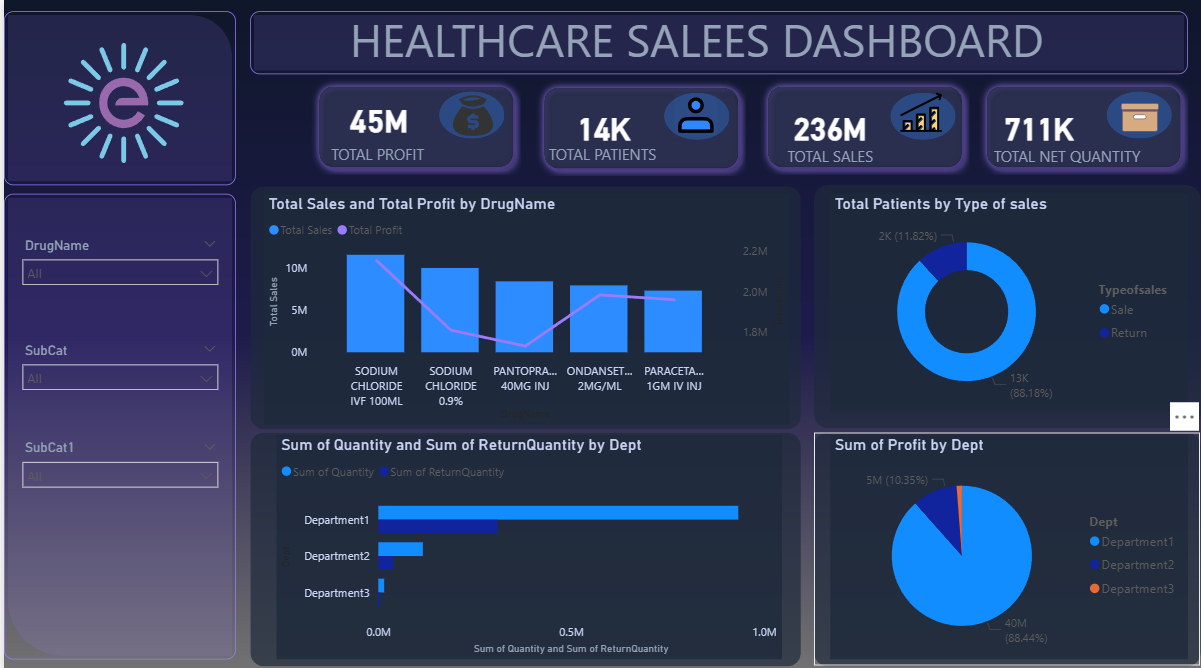

This screenshot's page, from the dashboard's own definition file:
{"tool":"powerbi","page":{"name":"Page 2","canvas":[1280,720],"ordinal":0},"visuals":[{"type":"shape","box":[263,12.1,1000.1,67.6],"z":0},{"type":"shape","box":[328.2,84.5,223.2,102.5],"z":1000},{"type":"card","fields":{"Values":["Raw Data.Total Profit"]},"box":[336.6,88.1,127.9,77.2],"z":2000},{"type":"textbox","box":[343.8,148.4,120.6,33.8],"z":3000},{"type":"shape","box":[464.5,97.7,70,50.7],"z":4000},{"type":"image","box":[470.5,97.7,59.1,51.9],"z":5000},{"type":"shape","box":[263,199.1,587.5,259.4],"z":6000},{"type":"shape","box":[0,12.1,247.3,185.8],"z":7000},{"type":"lineClusteredColumnComboChart","fields":{"Y":["Raw Data.Total Sales"],"Category":["Raw Data.DrugName"],"Y2":["Raw Data.Total Profit"]},"box":[277.5,206.3,561,246.1],"z":8000},{"type":"shape","box":[863.8,197.9,412.6,259.4],"z":9000},{"type":"donutChart","title":"Total Patients by Type of sales","fields":{"Category":["Raw Data.Typeofsales"],"Y":["Raw Data.Total Patients"]},"box":[881.9,206.3,381.2,232.8],"z":10000},{"type":"shape","box":[807.1,84.5,223.2,102.5],"z":11000},{"type":"shape","box":[568.2,85.7,223.2,102.5],"z":12000},{"type":"shape","box":[1040,84.5,223.2,102.5],"z":13000},{"type":"card","fields":{"Values":["Raw Data.Total Net Quantity"]},"box":[1040,97.7,127.9,77.2],"z":14000},{"type":"card","fields":{"Values":["Raw Data.Total Sales"]},"box":[818,97.7,127.9,77.2],"z":15000},{"type":"card","fields":{"Values":["Raw Data.Total Patients"]},"box":[575.5,97.7,127.9,77.2],"z":16000},{"type":"shape","box":[703.4,98.9,70,50.7],"z":17000},{"type":"shape","box":[1176.3,97.7,70,50.7],"z":18000},{"type":"shape","box":[945.8,98.9,70,50.7],"z":19000},{"type":"textbox","box":[575.5,148.4,137.5,32.6],"z":20000},{"type":"textbox","box":[830,150.8,115.8,36.2],"z":21000},{"type":"textbox","box":[1050.8,150.8,177.3,35],"z":22000},{"type":"image","box":[945.8,97.7,65.1,44.6],"z":23000},{"type":"image","box":[711.8,100.1,51.9,45.8],"z":24000},{"type":"image","box":[1188.3,103.8,47.1,42.2],"z":25000},{"type":"shape","box":[0,206.3,247.3,497.1],"z":26000},{"type":"image","box":[41,38.6,172.5,142.4],"z":27000},{"type":"textbox","box":[364.3,3.6,798.7,76],"z":28000},{"type":"shape","box":[263,460.9,587.5,249.7],"z":29000},{"type":"shape","box":[863.8,460.9,412.6,249.7],"z":30000},{"type":"pieChart","fields":{"Category":["Raw Data.Dept"],"Y":["Sum(Raw Data.Profit)"]},"box":[881.9,464.5,381.2,238.9],"z":31000},{"type":"clusteredBarChart","fields":{"Y":["Sum(Raw Data.Quantity)","Sum(Raw Data.ReturnQuantity)"],"Category":["Raw Data.Dept"]},"box":[290.8,464.5,539.3,238.9],"z":32000},{"type":"slicer","fields":{"Values":["Raw Data.DrugName"]},"box":[9.7,248.5,229.2,74.8],"z":33000},{"type":"slicer","fields":{"Values":["Raw Data.SubCat"]},"box":[9.7,359.5,229.2,74.8],"z":34000},{"type":"slicer","fields":{"Values":["Raw Data.SubCat1"]},"box":[9.7,464.5,229.2,74.8],"z":35000}]}

Visuals, with their boxes in screenshot pixels (x1, y1, x2, y2), scaled from the page's 1280x720 canvas onto the 1201x668 screenshot:
shape: 247:11:1185:74
shape: 308:78:517:173
card - Raw Data.Total Profit: 316:82:436:153
textbox: 323:138:436:169
shape: 436:91:502:138
image: 441:91:497:139
shape: 247:185:798:425
shape: 0:11:232:184
lineClusteredColumnComboChart - Raw Data.Total Sales x Raw Data.DrugName: 260:191:787:420
shape: 810:184:1198:424
"Total Patients by Type of sales" donutChart: 827:191:1185:407
shape: 757:78:967:173
shape: 533:80:743:175
shape: 976:78:1185:173
card - Raw Data.Total Net Quantity: 976:91:1096:162
card - Raw Data.Total Sales: 768:91:888:162
card - Raw Data.Total Patients: 540:91:660:162
shape: 660:92:726:139
shape: 1104:91:1169:138
shape: 887:92:953:139
textbox: 540:138:669:168
textbox: 779:140:887:173
textbox: 986:140:1152:172
image: 887:91:949:132
image: 668:93:717:135
image: 1115:96:1159:135
shape: 0:191:232:653
image: 38:36:200:168
textbox: 342:3:1091:74
shape: 247:428:798:659
shape: 810:428:1198:659
pieChart - Raw Data.Dept x Sum(Raw Data.Profit): 827:431:1185:653
clusteredBarChart - Sum(Raw Data.Quantity) x Sum(Raw Data.ReturnQuantity): 273:431:779:653
slicer - Raw Data.DrugName: 9:231:224:300
slicer - Raw Data.SubCat: 9:334:224:403
slicer - Raw Data.SubCat1: 9:431:224:500
